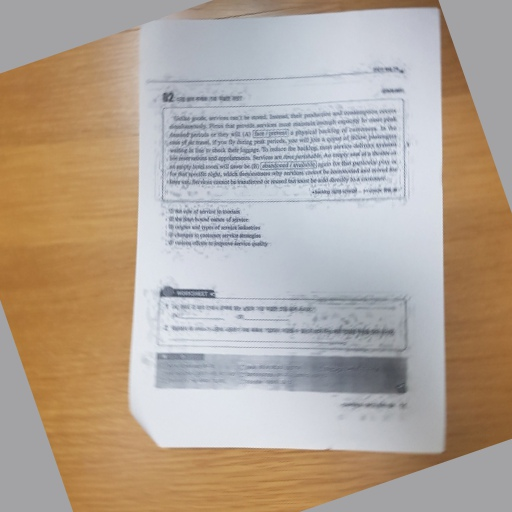Paper_2: (127, 10, 453, 469)
